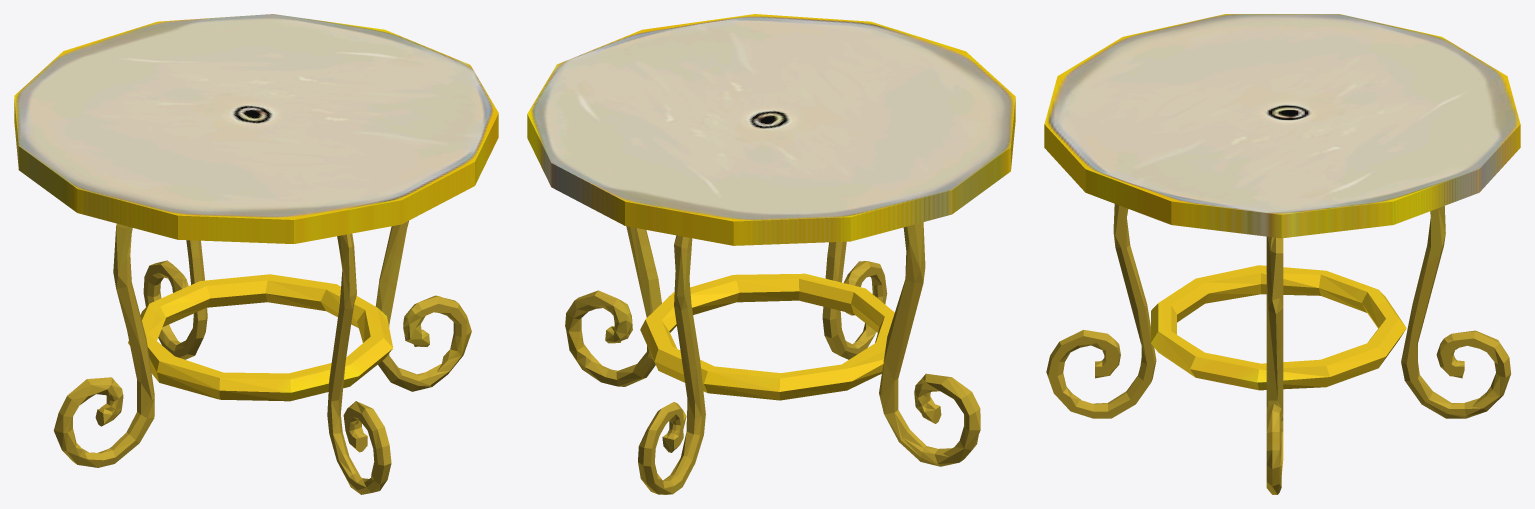
The model's file is DecTab.glb.
3 views of the same model, side by side, from view 1: azimuth 30°, elevation 25°; view 2: azimuth 150°, elevation 25°; view 3: azimuth 270°, elevation 25° (orthographic). The views are drawn at different scales.
Visible parts, largest first — view 1: DecTab; view 2: DecTab; view 3: DecTab.
Part boxes in pixels (x1,y1,x2,y2): DecTab: [14, 14, 498, 494]; DecTab: [527, 14, 1015, 494]; DecTab: [1044, 14, 1520, 494].
Size of the model in its own units: 156 by 109 by 156.
Materials: 1 (1 with a texture image).
